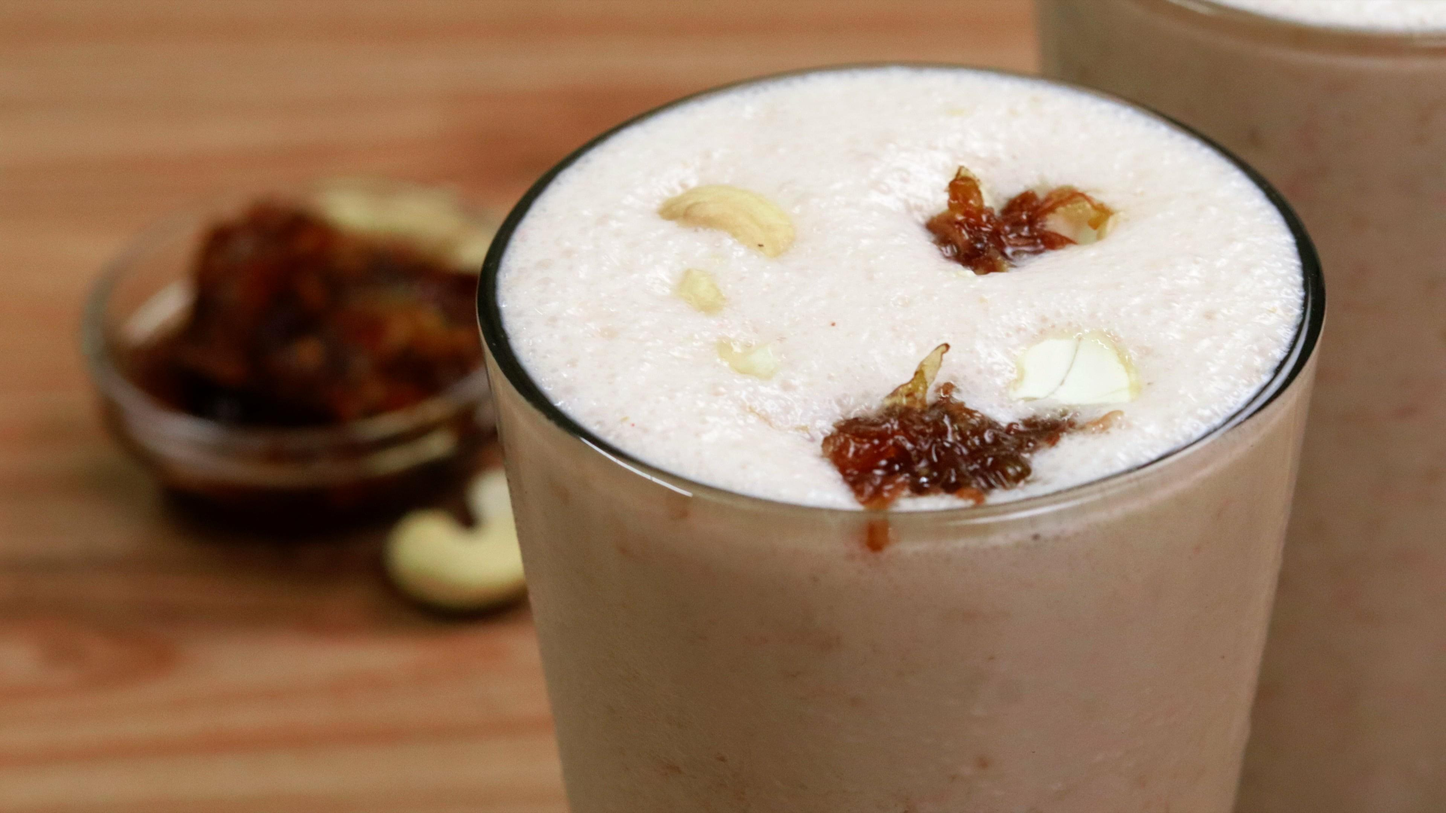Lassi: (499, 66, 1306, 507)
